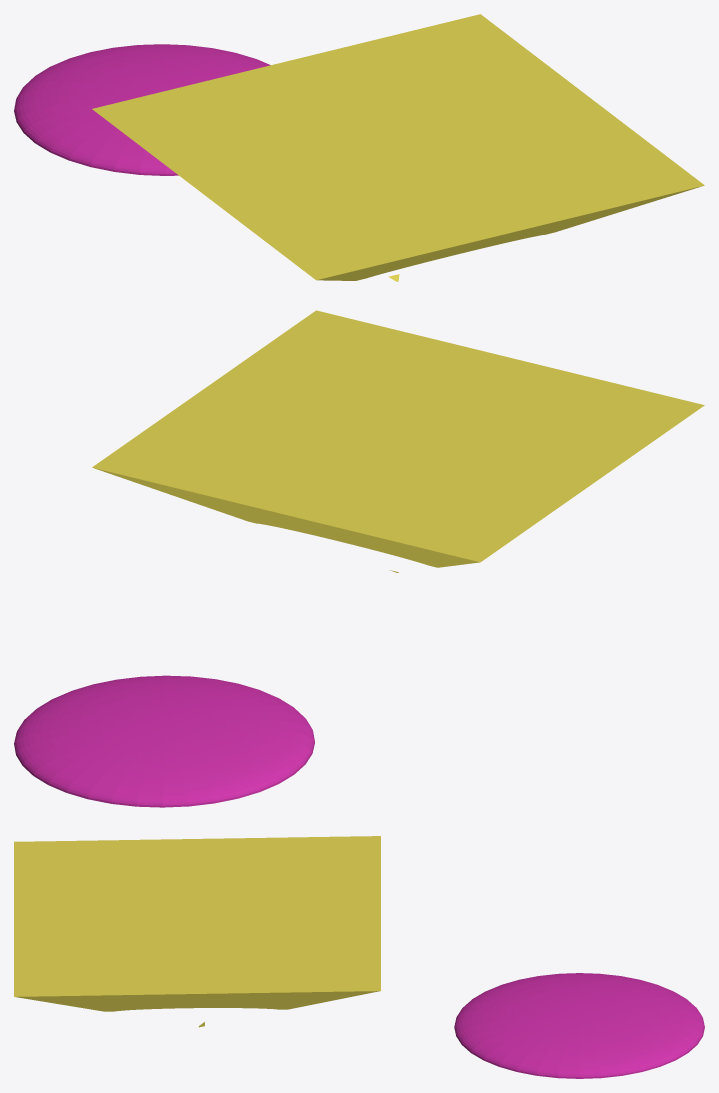
Rendered from Exquisite Crift (2).glb.
3 renders of one model, top to bottom at view 1: azimuth 30°, elevation 25°; view 2: azimuth 150°, elevation 25°; view 3: azimuth 270°, elevation 25°, orthographic. The views are drawn at different scales.
Parts seen in each view (by area): view 1: Mesh_Mesh_head_geo.001_lambert2SG.001; view 2: Mesh_Mesh_head_geo.001_lambert2SG.001; view 3: Mesh_Mesh_head_geo.001_lambert2SG.001.
Boxes of the visible parts, x1=… form: Mesh_Mesh_head_geo.001_lambert2SG.001: x1=14, y1=14, x2=704, y2=281; Mesh_Mesh_head_geo.001_lambert2SG.001: x1=14, y1=310, x2=704, y2=807; Mesh_Mesh_head_geo.001_lambert2SG.001: x1=14, y1=836, x2=704, y2=1078.
Bounding box in the file's own units: 60 × 20.52 × 113.
